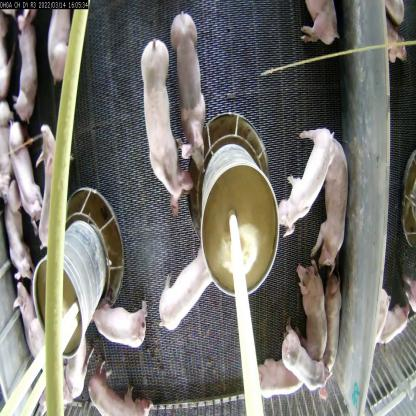Pig: (137, 36, 188, 208), (168, 10, 214, 175), (277, 126, 338, 238), (309, 137, 354, 275), (160, 250, 212, 341), (0, 122, 46, 221), (277, 315, 330, 396), (292, 256, 327, 373), (92, 290, 149, 352), (35, 123, 62, 250), (84, 372, 157, 415), (254, 354, 316, 404), (12, 7, 36, 130), (320, 276, 344, 384), (4, 195, 33, 282), (14, 280, 42, 370)
